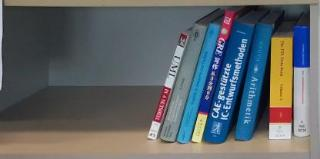book-spine: (203, 20, 254, 146), (159, 21, 208, 145), (191, 9, 234, 145), (177, 22, 220, 145), (233, 21, 274, 143), (147, 32, 189, 141), (269, 37, 294, 140), (293, 26, 310, 138)
